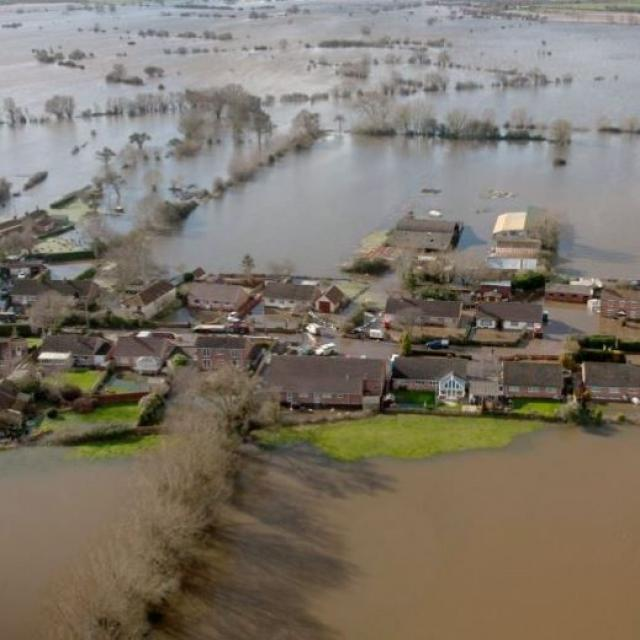flood: (0, 0, 640, 282), (146, 428, 640, 640), (0, 449, 131, 640)
house: (262, 353, 386, 411), (393, 354, 470, 402), (499, 358, 564, 404), (386, 296, 464, 332), (108, 334, 174, 373), (580, 362, 640, 404), (492, 210, 554, 247), (476, 302, 546, 334), (262, 281, 319, 314), (184, 282, 245, 312)
